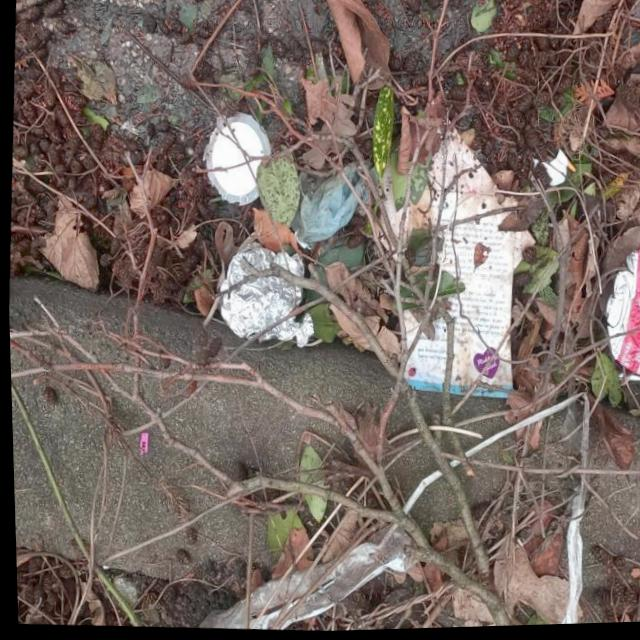Can-Metal: (597, 246, 640, 384)
Paper: (367, 114, 541, 280)
